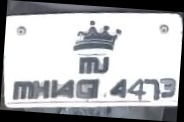character: (127, 77, 145, 101), (107, 77, 126, 99), (78, 56, 99, 75), (12, 81, 33, 99), (143, 78, 160, 100), (32, 80, 50, 100), (75, 79, 92, 99), (57, 79, 74, 98), (160, 77, 176, 97), (99, 55, 109, 74), (49, 79, 58, 99)
